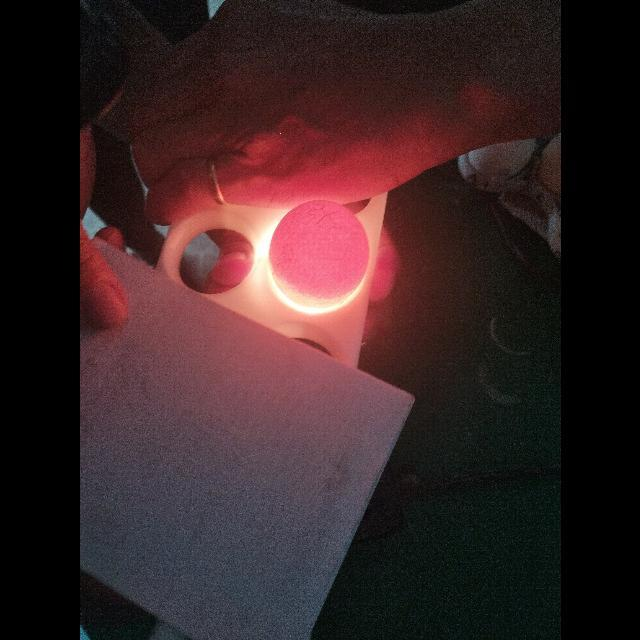Infertile: (271, 202, 365, 314)
